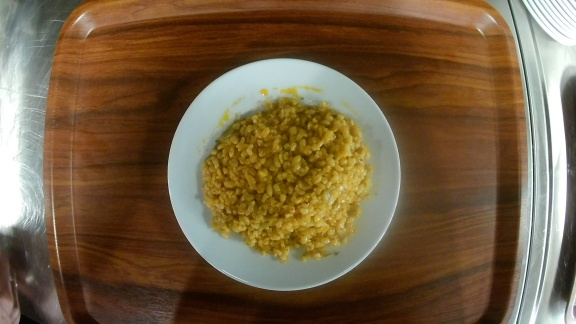bulgur: (168, 58, 401, 291)
